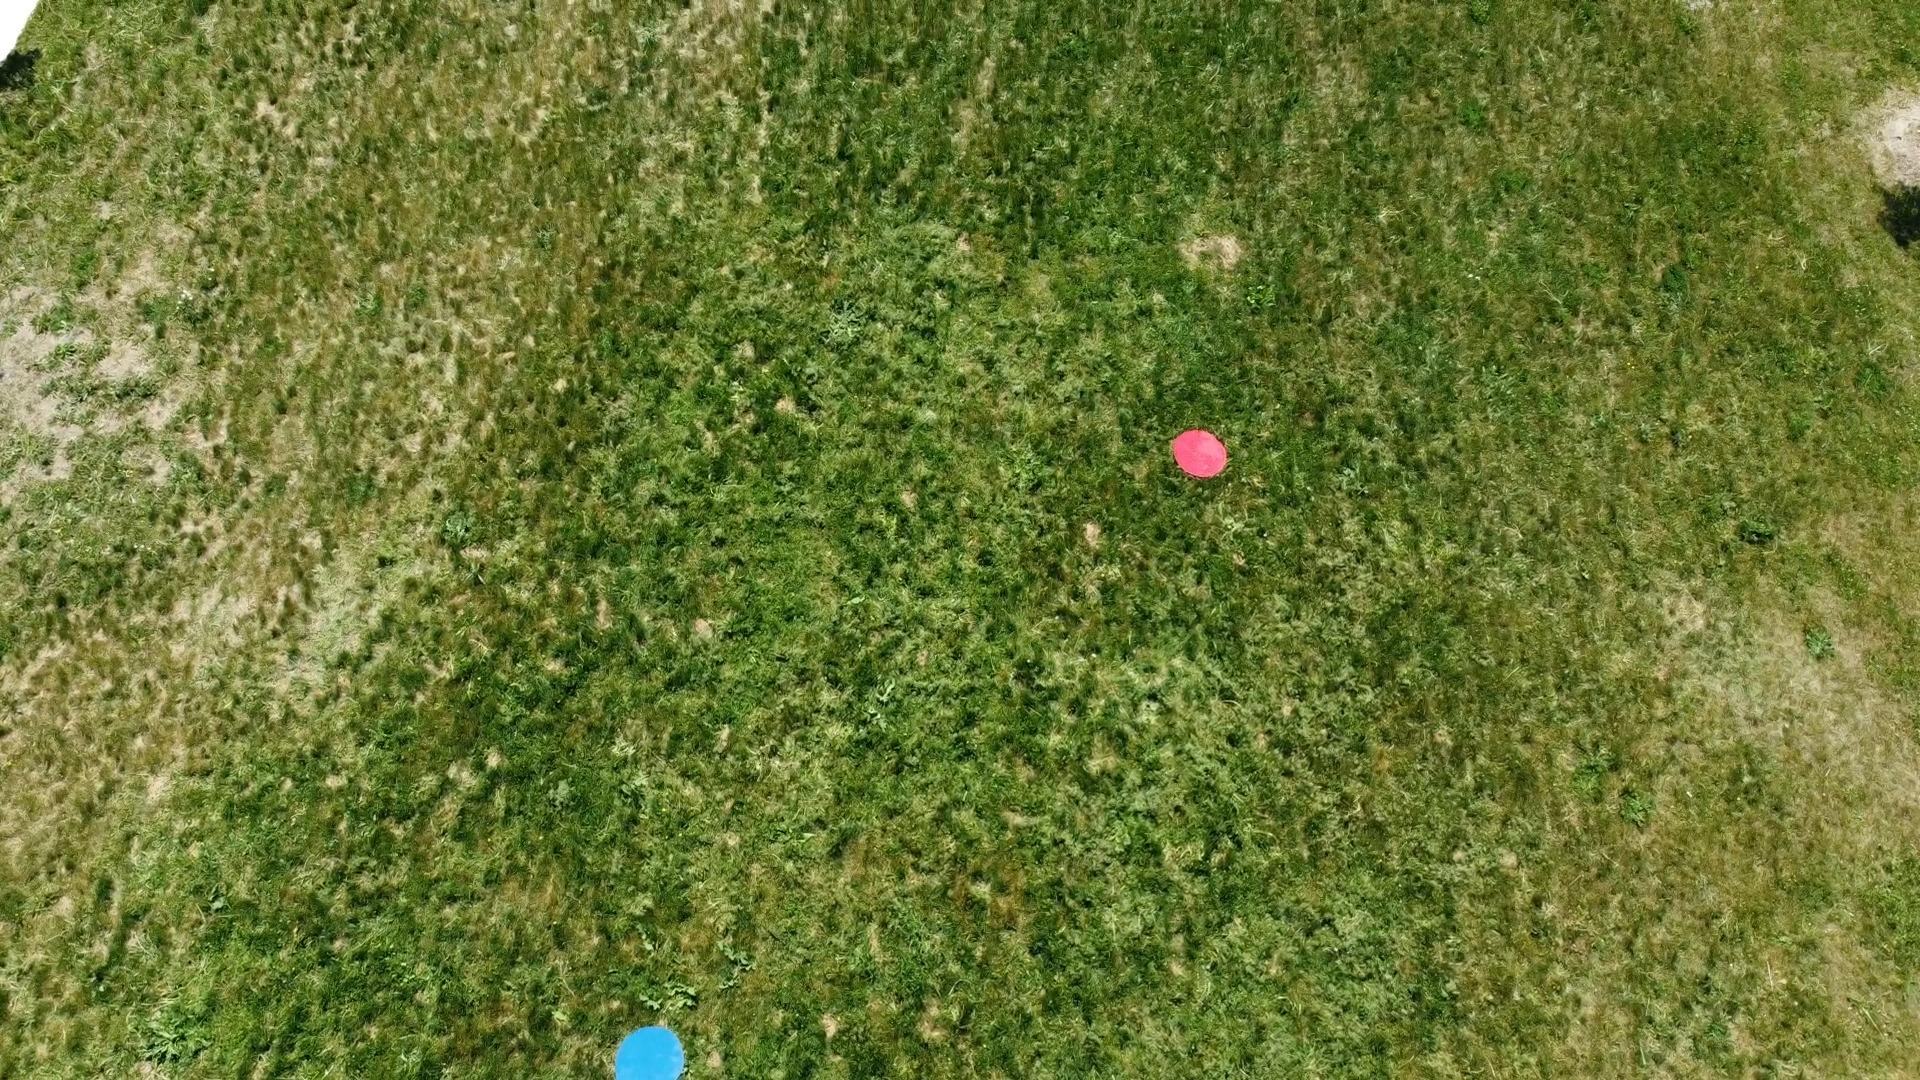Blue: (611, 1022, 687, 1080)
Red: (1171, 427, 1228, 477)
